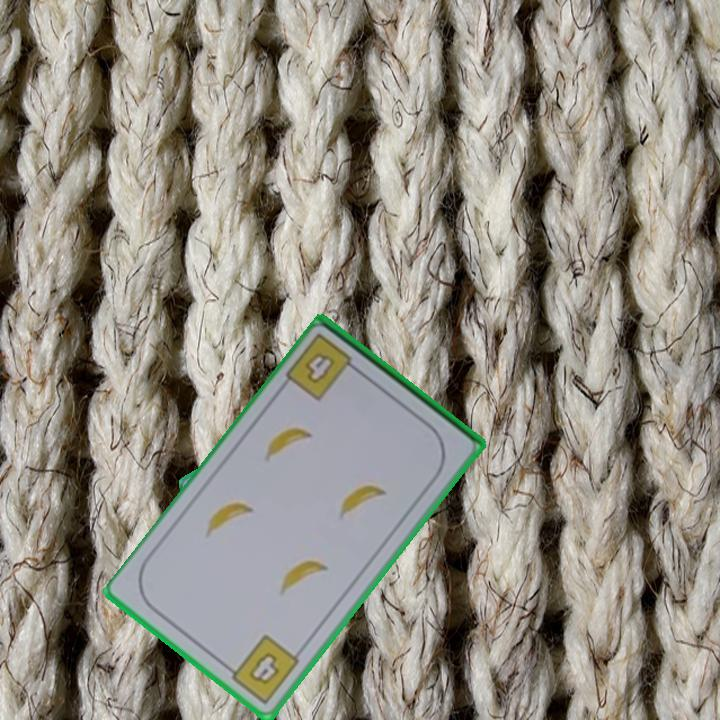4b: (221, 631, 303, 708), (282, 330, 365, 404)
